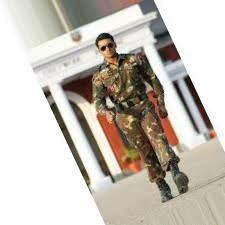uniform: (92, 54, 195, 194)
